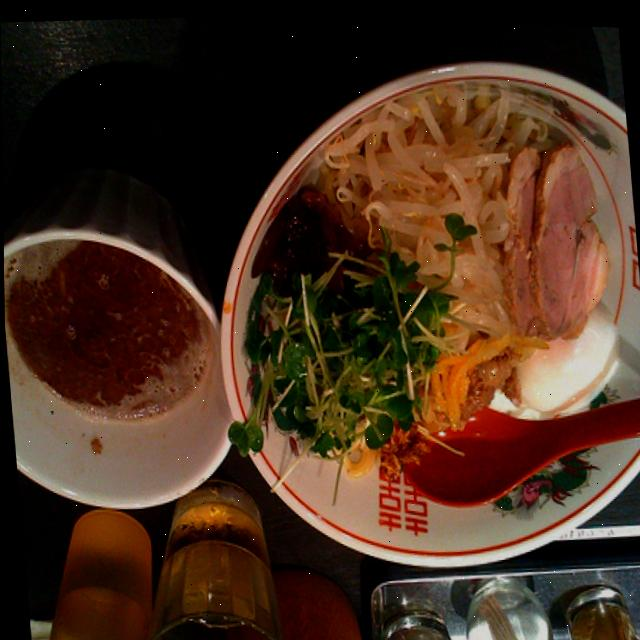面条主食: (1, 60, 640, 549)
